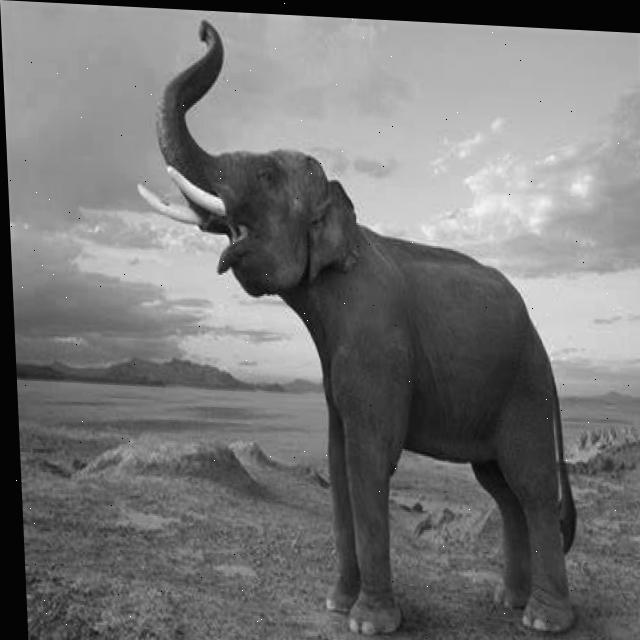Elephant: (129, 14, 582, 640)
